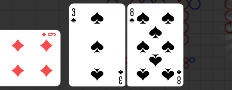3C: (117, 68, 124, 85)
6D: (40, 31, 57, 37)
8C: (175, 68, 182, 85)
